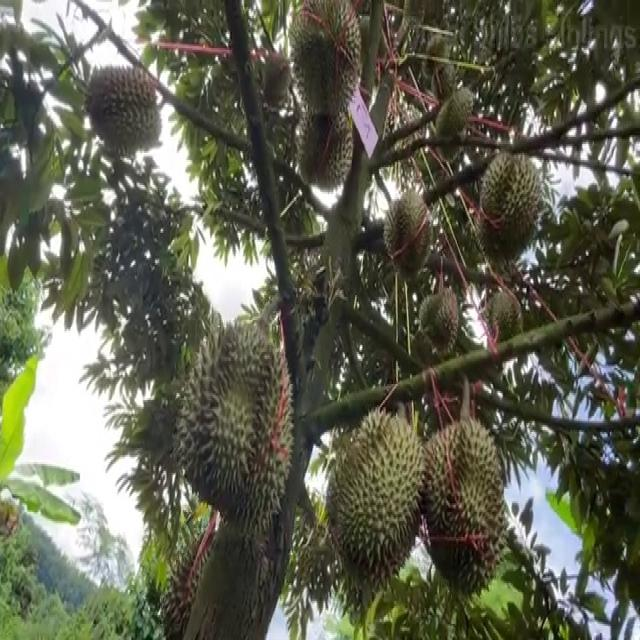durian: (173, 312, 297, 545), (321, 406, 428, 600), (417, 413, 509, 603), (286, 0, 363, 124), (472, 148, 547, 270), (86, 64, 165, 159), (294, 102, 356, 194), (383, 186, 436, 286), (416, 286, 461, 359), (430, 84, 477, 148), (482, 288, 526, 355)
